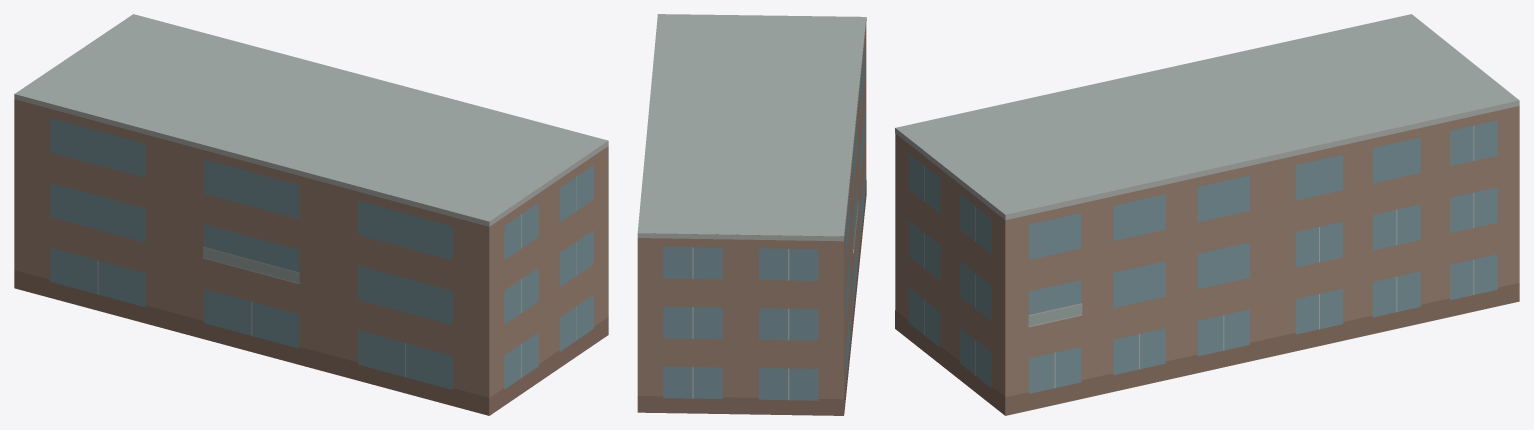
The model's file is survey-upis-32990956.glb.
3 views of the same model, side by side, from view 1: azimuth 30°, elevation 25°; view 2: azimuth 150°, elevation 25°; view 3: azimuth 270°, elevation 25° (orthographic). The views are drawn at different scales.
Visible parts, largest first — view 1: survey-upis-32990956.tmp; view 2: survey-upis-32990956.tmp; view 3: survey-upis-32990956.tmp.
Part boxes in pixels (<box>): survey-upis-32990956.tmp: <box>14,14,608,415</box>; survey-upis-32990956.tmp: <box>637,14,866,415</box>; survey-upis-32990956.tmp: <box>895,14,1519,415</box>.
Bounding box in the file's own units: 19.63 × 9.15 × 25.78.
